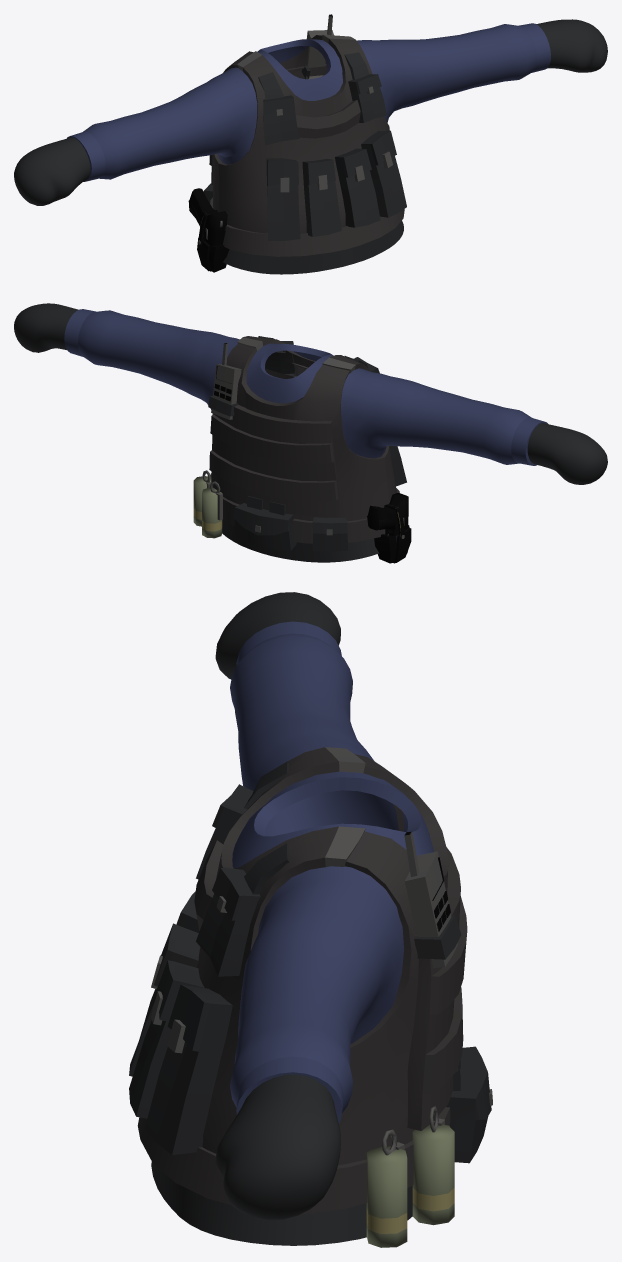
The model's file is 14特警套装.fbx.
3 renders of one model, top to bottom at view 1: azimuth 30°, elevation 25°; view 2: azimuth 150°, elevation 25°; view 3: azimuth 270°, elevation 25°, orthographic. The views are drawn at different scales.
Visible parts, largest first — view 1: 14特警套装; view 2: 14特警套装; view 3: 14特警套装.
Boxes of the visible parts, left/top/right/bottom form: 14特警套装: left=14, top=14, right=607, bottom=274; 14特警套装: left=14, top=303, right=607, bottom=563; 14特警套装: left=129, top=592, right=492, bottom=1247.
Bounding box in the file's own units: 1.98 × 0.6441 × 0.5325.
